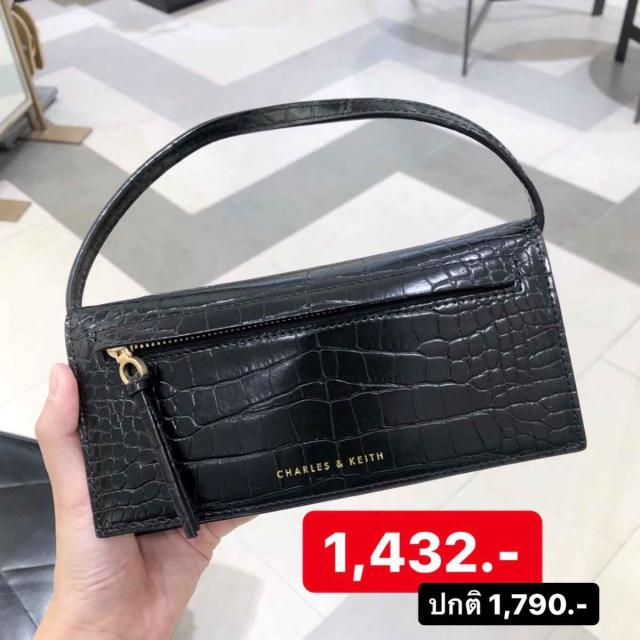handbag: (54, 215, 600, 540)
